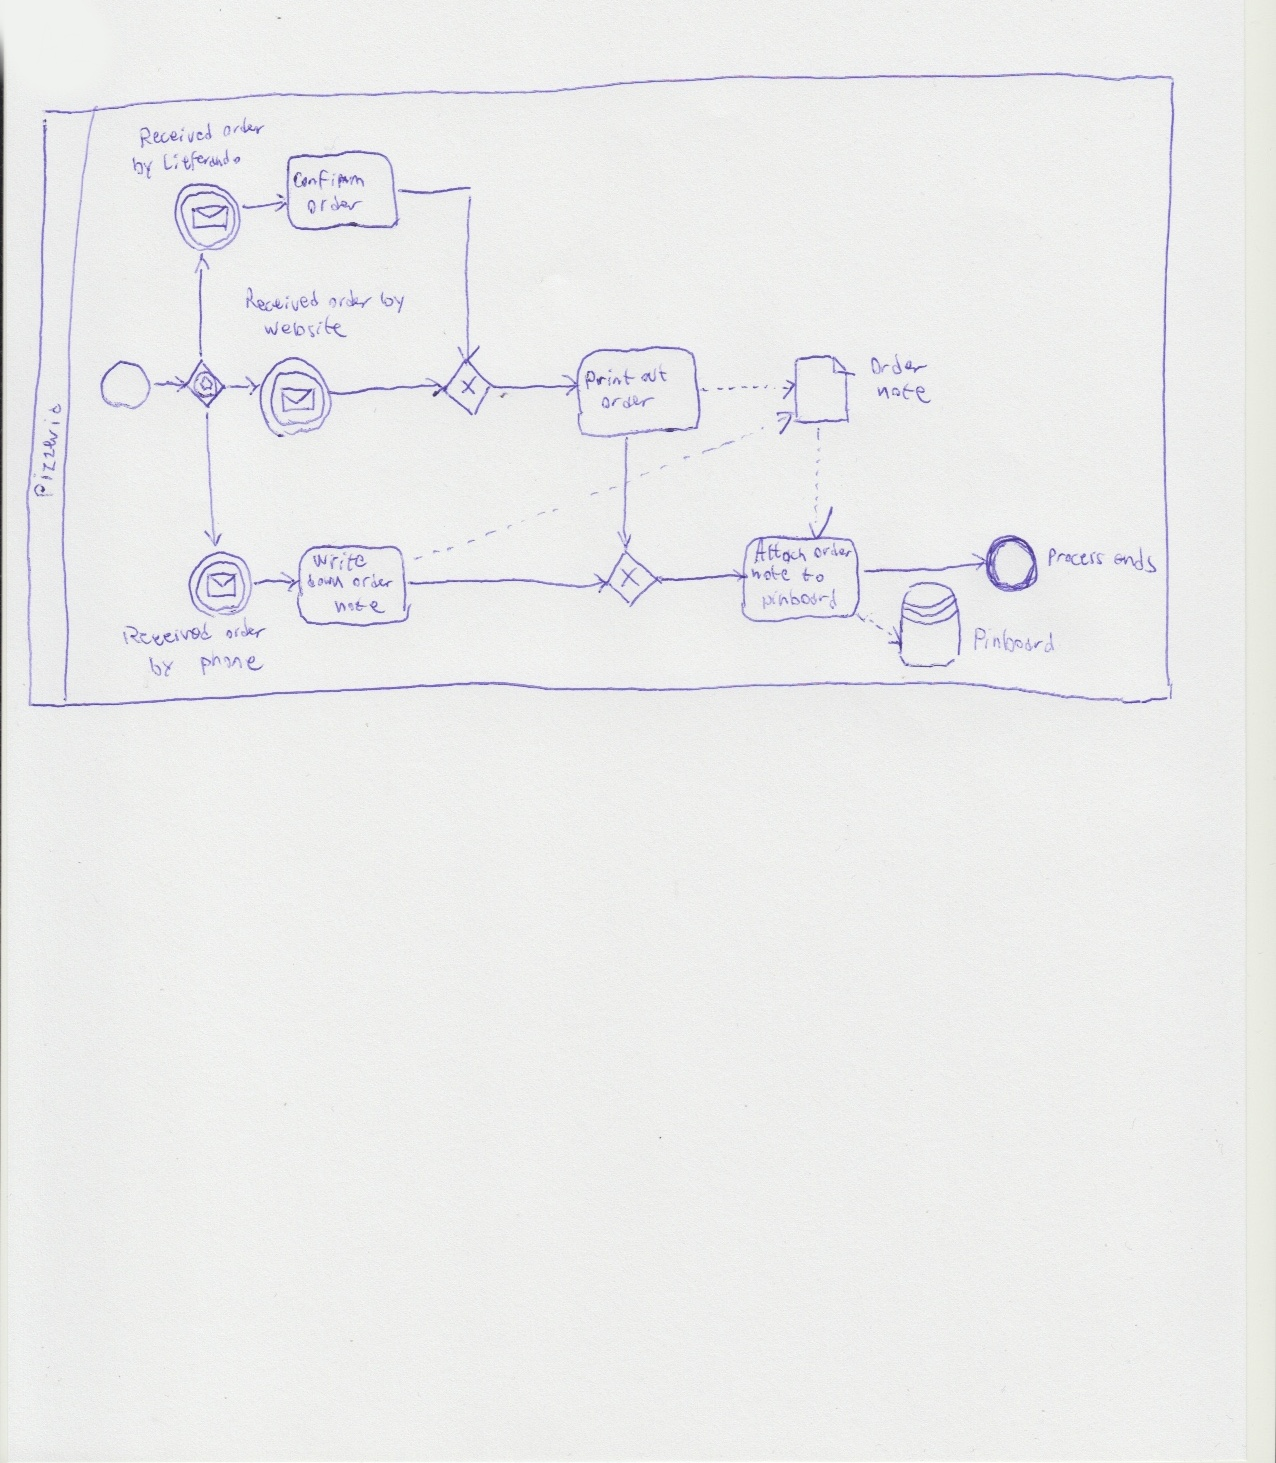Attach: (752, 537, 808, 566)
Confirm: (289, 169, 368, 192)
Lieferand: (158, 146, 247, 172)
Order: (864, 355, 932, 377)
Pinboard: (968, 625, 1058, 657)
Pizzeria: (27, 401, 66, 503)
Print: (582, 367, 637, 392)
Process: (1043, 546, 1108, 574)
Received: (240, 282, 322, 316), (122, 622, 219, 649), (136, 121, 216, 151)
by: (127, 152, 159, 187), (146, 654, 182, 680), (377, 290, 409, 315)
down: (302, 569, 349, 593)
ends: (1108, 547, 1160, 577)
note: (873, 383, 938, 404), (331, 596, 388, 618), (746, 564, 798, 586)
order: (300, 193, 364, 216), (325, 286, 376, 315), (221, 618, 270, 646), (219, 114, 266, 142), (598, 391, 657, 412), (808, 539, 856, 564), (348, 574, 398, 593)
out: (638, 362, 672, 388)
phone: (195, 649, 265, 674)
pinboard: (754, 587, 844, 615)
to: (797, 565, 828, 586)
website: (259, 315, 349, 341)
write: (306, 552, 372, 571)
